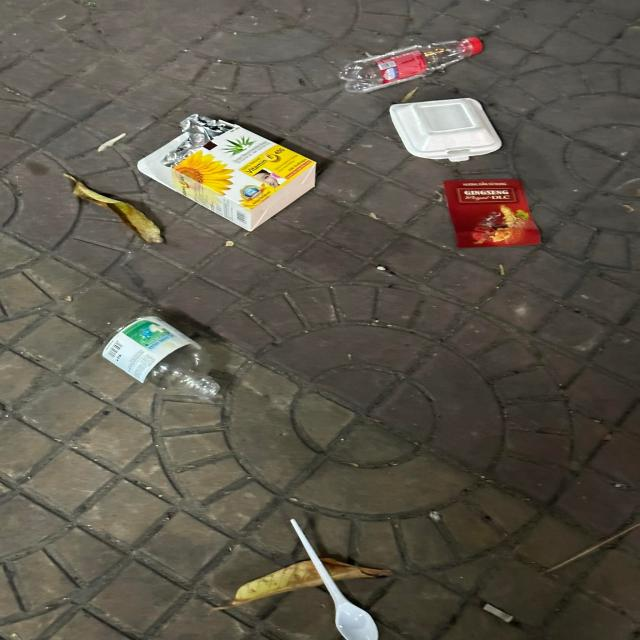bottle: (98, 316, 220, 399), (339, 37, 484, 93)
cardboard box: (135, 112, 318, 232)
foam box: (389, 98, 502, 162)
paper: (444, 179, 541, 248)
plastic utensil: (291, 519, 379, 640)
